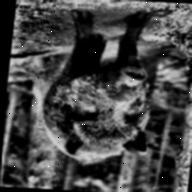boar: (35, 7, 164, 170)
